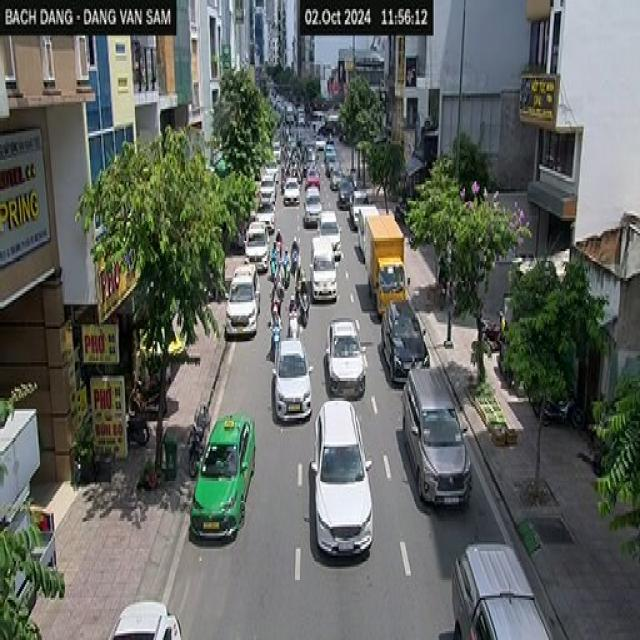car: (308, 398, 374, 558), (402, 364, 472, 506), (451, 540, 551, 638), (189, 411, 255, 542), (322, 316, 367, 398), (272, 336, 312, 422), (108, 600, 182, 638)
truck: (358, 204, 408, 316)
